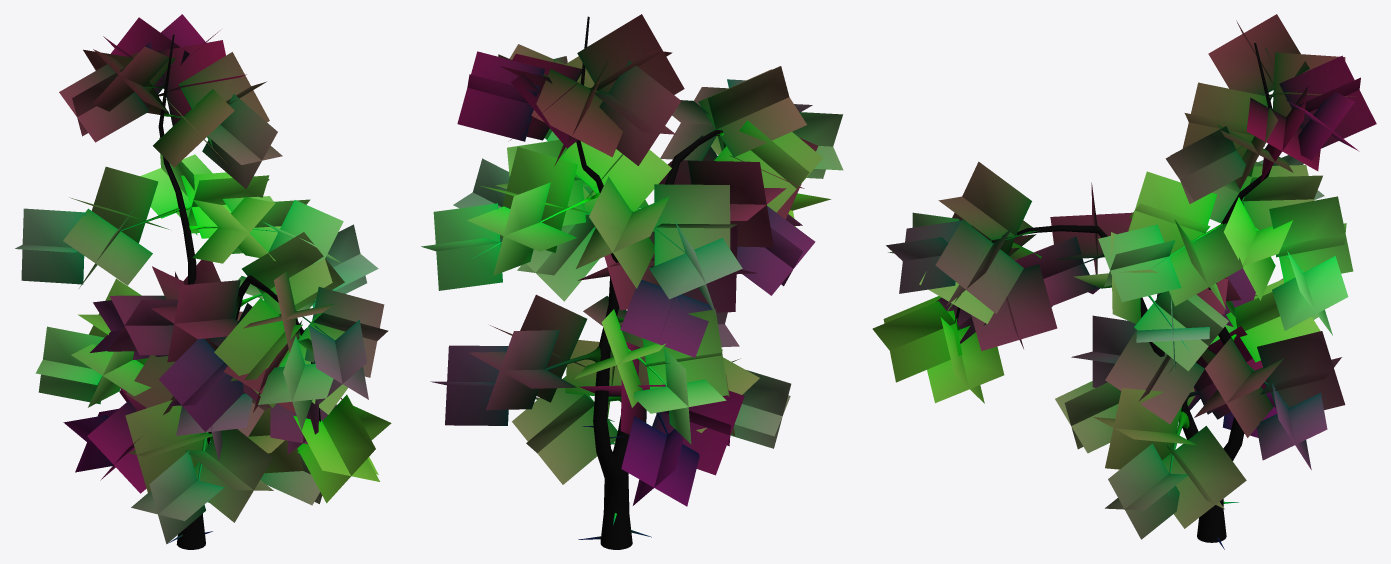
The model's file is M_P7_Tree_14.fbx.
The picture shows the model from 3 angles, left to right: view 1: azimuth 30°, elevation 25°; view 2: azimuth 150°, elevation 25°; view 3: azimuth 270°, elevation 25°; orthographic projection. The views are drawn at different scales.
Parts seen in each view (by area): view 1: Tree_14; view 2: Tree_14; view 3: Tree_14.
Part boxes in pixels (<box>): Tree_14: <box>15,14,391,549</box>; Tree_14: <box>421,14,843,549</box>; Tree_14: <box>872,14,1376,549</box>.
Size of the model in its own units: 285 by 446 by 407.
